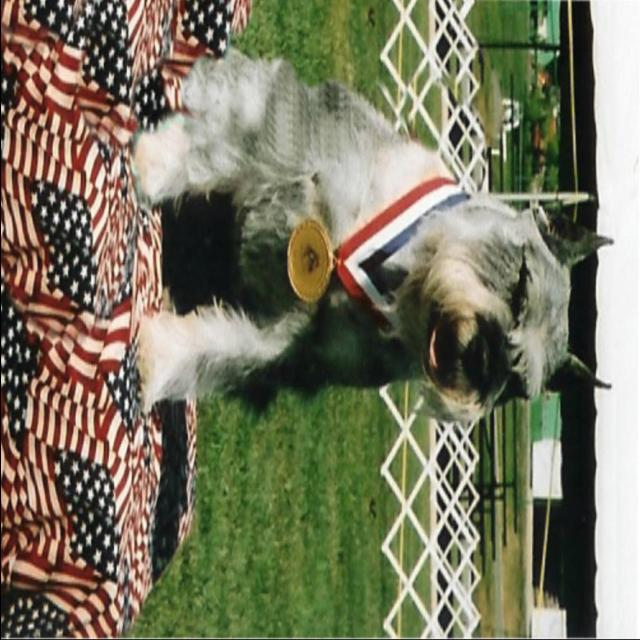standard_schnauzer: (123, 38, 618, 436)
